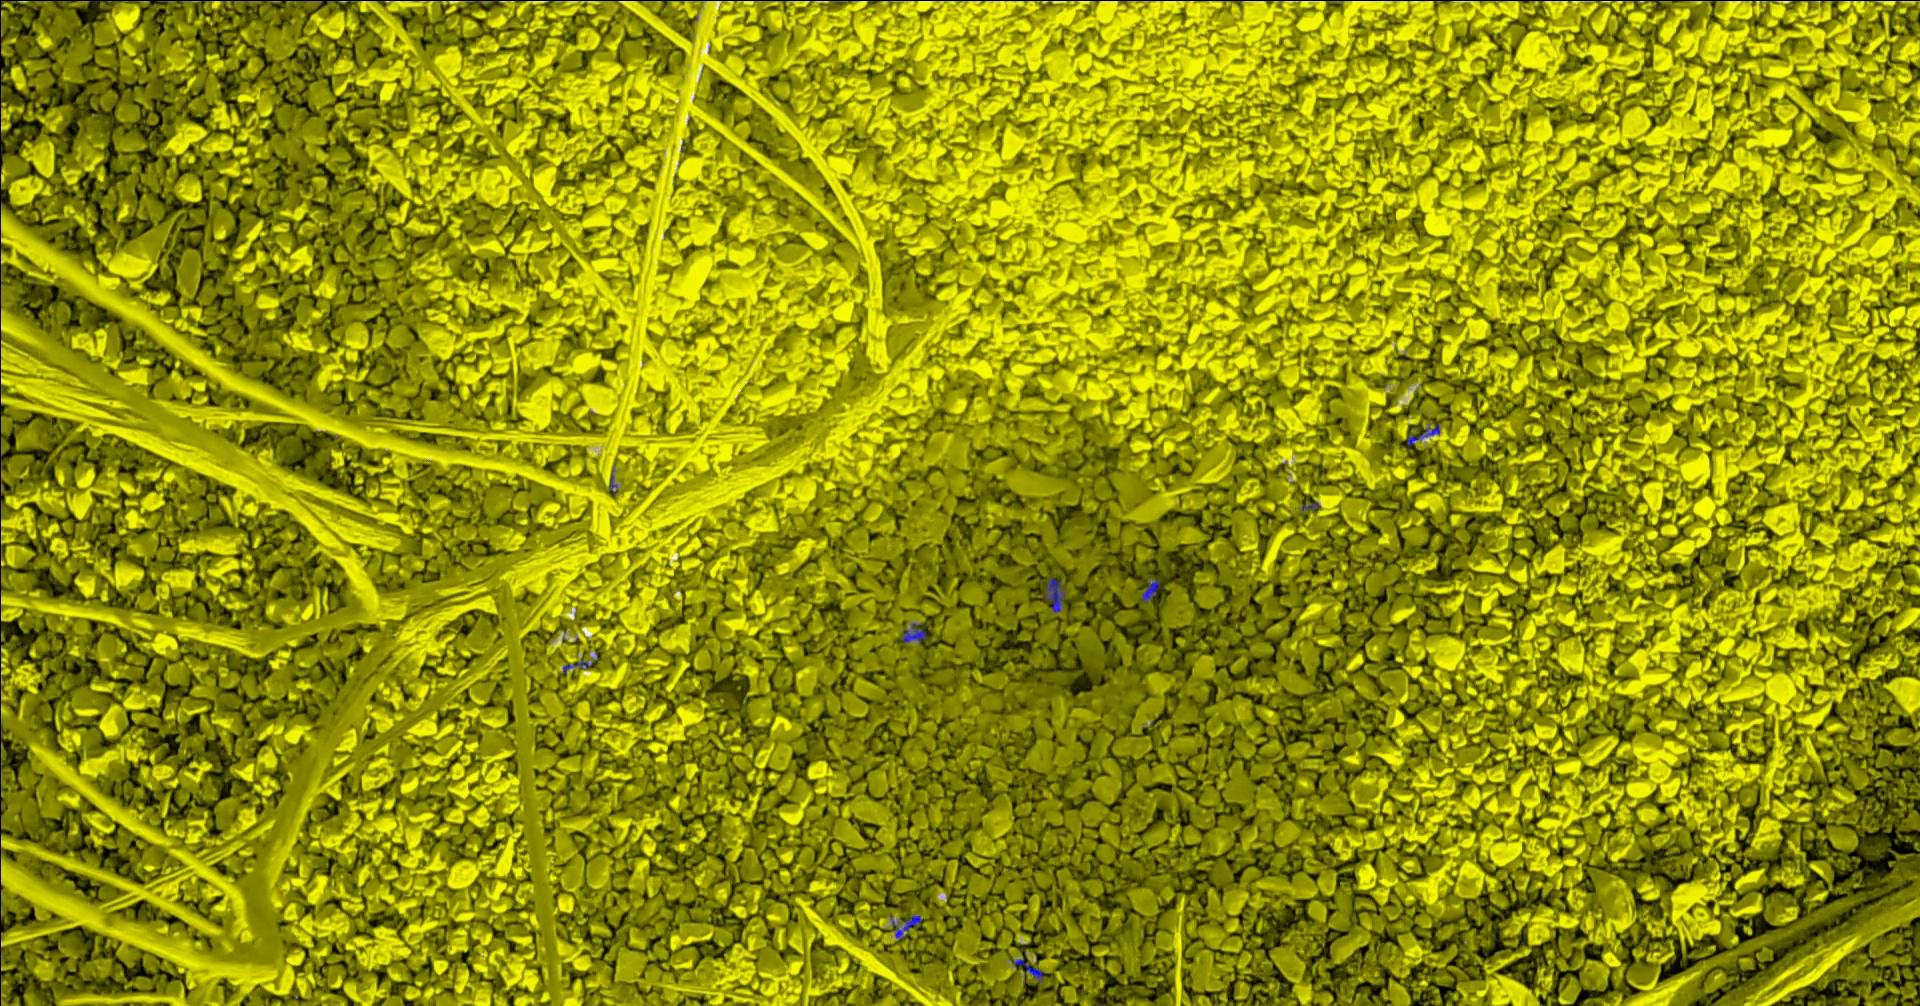ant: (1015, 951, 1044, 982), (1043, 577, 1067, 612), (891, 915, 924, 939), (1408, 423, 1441, 445), (1142, 577, 1161, 602), (903, 622, 928, 641), (564, 659, 594, 673)
